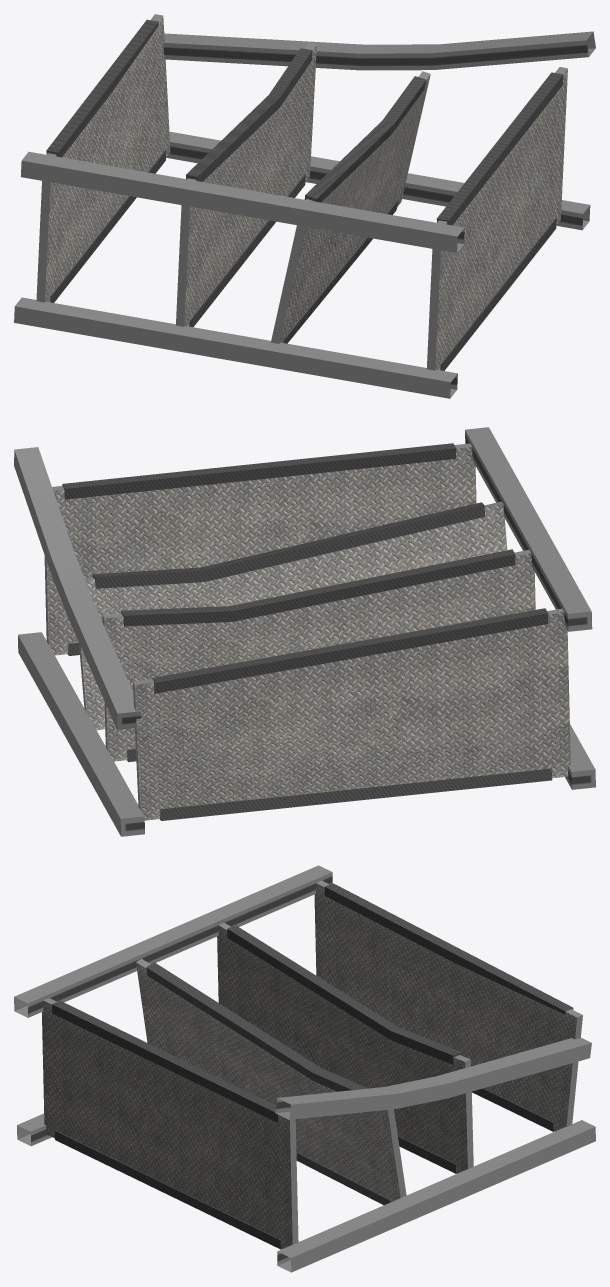
The model's file is BrokenShelf_Type1.fbx.
The picture shows the model from 3 angles, top to bottom: view 1: azimuth 30°, elevation 25°; view 2: azimuth 150°, elevation 25°; view 3: azimuth 270°, elevation 25°; orthographic projection. The views are drawn at different scales.
Parts seen in each view (by area): view 1: Plate_1, Plate_4, Plate_3, shelf_RBLeg, shelf_RFLeg, ADDPlate_B (×4), shelf_LBLeg, Plate_5, ADDPlate_F (×4), shelf_LFLeg1; view 2: Plate_4, Plate_1, ADDPlate_B (×4), Plate_3, Plate_5, shelf_LBLeg, shelf_LFLeg1, shelf_RBLeg, ADDPlate_F, shelf_RFLeg; view 3: Plate_1, Plate_4, Plate_3, Plate_5, ADDPlate_B (×4), shelf_LFLeg1, shelf_RBLeg, shelf_LBLeg, ADDPlate_F (×4), shelf_RFLeg.
Boxes of the visible parts, <box> form: Plate_1: <box>426,67,567,370</box>; Plate_4: <box>36,14,170,302</box>; Plate_3: <box>176,42,316,326</box>; shelf_RBLeg: <box>21,151,464,252</box>; shelf_RFLeg: <box>14,297,457,398</box>; ADDPlate_B (×4): <box>46,19,563,225</box>; shelf_LBLeg: <box>163,31,595,70</box>; Plate_5: <box>271,71,430,343</box>; ADDPlate_F (×4): <box>50,150,556,370</box>; shelf_LFLeg1: <box>166,131,590,230</box>; Plate_4: <box>132,608,570,820</box>; Plate_1: <box>44,443,476,655</box>; ADDPlate_B (×4): <box>62,443,548,693</box>; Plate_3: <box>102,549,535,761</box>; Plate_5: <box>79,501,507,730</box>; shelf_LBLeg: <box>14,447,141,729</box>; shelf_LFLeg1: <box>18,632,144,836</box>; shelf_RBLeg: <box>465,427,592,631</box>; ADDPlate_F: <box>160,768,552,820</box>; shelf_RFLeg: <box>565,724,595,789</box>; Plate_1: <box>42,998,298,1248</box>; Plate_4: <box>314,880,582,1131</box>; Plate_3: <box>217,922,473,1173</box>; Plate_5: <box>136,958,406,1201</box>; ADDPlate_B (×4): <box>52,883,573,1122</box>; shelf_LFLeg1: <box>277,1120,595,1272</box>; shelf_RBLeg: <box>14,865,332,1017</box>; shelf_LBLeg: <box>275,1038,591,1119</box>; ADDPlate_F (×4): <box>55,1088,554,1249</box>; shelf_RFLeg: <box>17,1113,51,1146</box>.
Bounding box in the file's own units: 3.07 × 0.9847 × 3.06.
